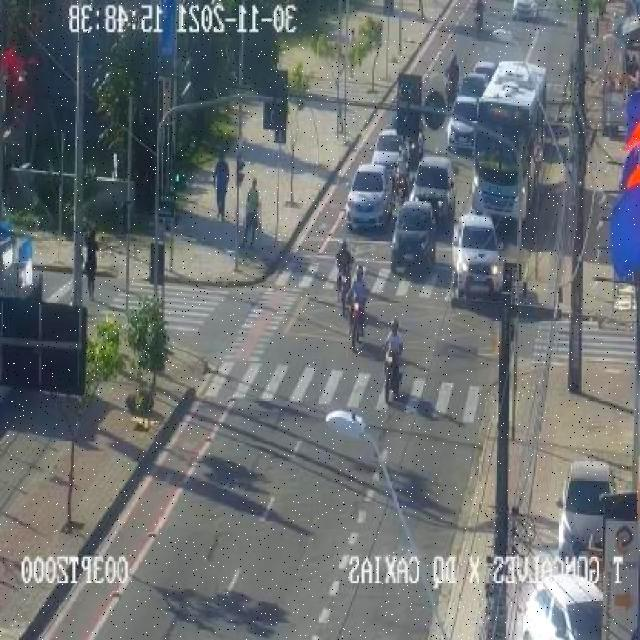Bus: (467, 59, 547, 235)
Car: (517, 572, 604, 639), (558, 460, 614, 558), (451, 213, 503, 300), (449, 70, 492, 154), (390, 200, 438, 272), (409, 154, 456, 227), (345, 162, 393, 232), (371, 130, 408, 180), (512, 1, 538, 22)
